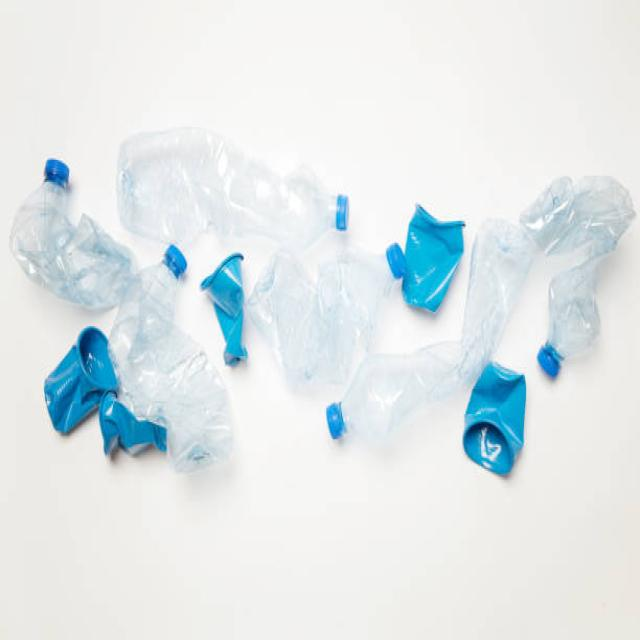plastic: (2, 168, 576, 488)
